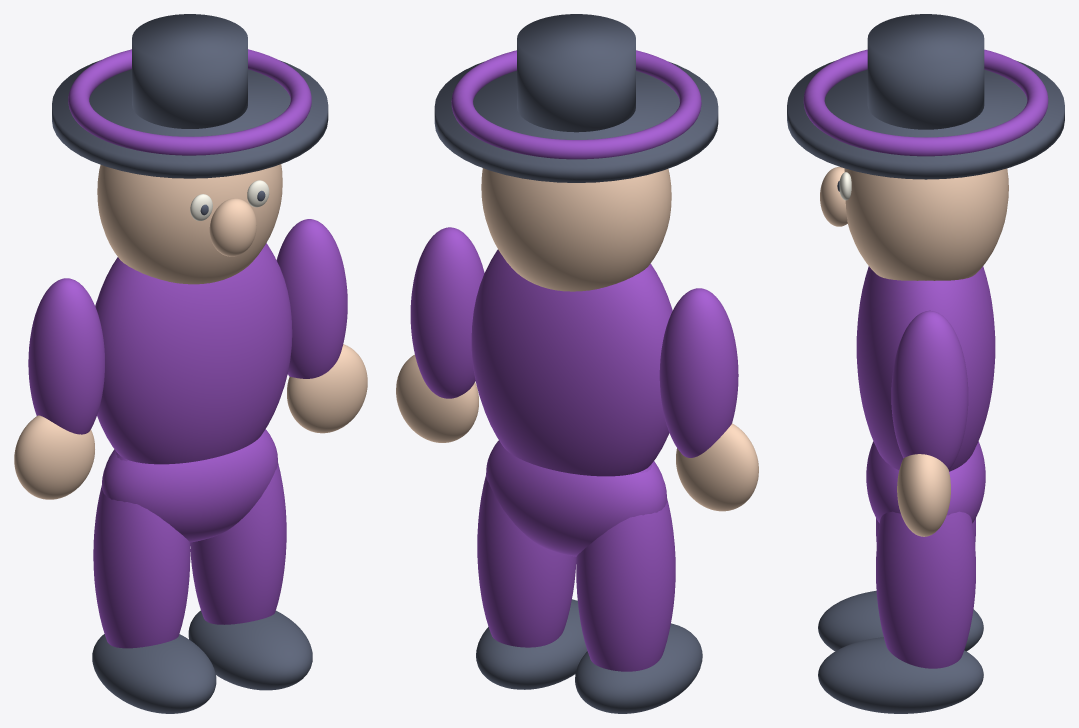
Rendered from Crimnon_Tophatter.glb.
3 renders of one model, left to right at view 1: azimuth 30°, elevation 25°; view 2: azimuth 150°, elevation 25°; view 3: azimuth 270°, elevation 25°, orthographic. The views are drawn at different scales.
Visible parts, largest first — view 1: Torso, Head, Tophat_Brim, Leg_-1, Tophat_Crown, Pelvis, ArmUpper_-1, Leg_1, ArmUpper_1, Hat_Band, Shoe_-1, Shoe_1 (+3 smaller); view 2: Torso, Head, Tophat_Brim, Leg_-1, Tophat_Crown, Pelvis, ArmUpper_-1, Leg_1, ArmUpper_1, Hat_Band, Shoe_-1, Shoe_1 (+2 smaller); view 3: Head, Torso, Tophat_Brim, Leg_1, Tophat_Crown, ArmUpper_1, Shoe_1, Hat_Band, Pelvis, Hand_1, Shoe_-1, Nose.
Part boxes in pixels (left/top/right/bottom): Torso: left=95, top=243, right=292, bottom=464; Head: left=97, top=164, right=282, bottom=284; Tophat_Brim: left=52, top=60, right=328, bottom=178; Leg_-1: left=93, top=452, right=190, bottom=648; Tophat_Crown: left=132, top=14, right=247, bottom=128; Pelvis: left=102, top=429, right=278, bottom=542; ArmUpper_-1: left=28, top=278, right=104, bottom=434; Leg_1: left=190, top=464, right=286, bottom=624; ArmUpper_1: left=276, top=219, right=347, bottom=378; Hat_Band: left=68, top=49, right=311, bottom=155; Shoe_-1: left=92, top=634, right=216, bottom=713; Shoe_1: left=188, top=610, right=312, bottom=690; Torso: left=471, top=249, right=672, bottom=476; Head: left=481, top=168, right=671, bottom=291; Tophat_Brim: left=434, top=61, right=718, bottom=182; Leg_-1: left=576, top=464, right=675, bottom=671; Tophat_Crown: left=517, top=14, right=635, bottom=132; Pelvis: left=486, top=440, right=666, bottom=556; ArmUpper_-1: left=659, top=288, right=738, bottom=457; Leg_1: left=477, top=476, right=576, bottom=647; ArmUpper_1: left=410, top=227, right=484, bottom=398; Hat_Band: left=451, top=50, right=701, bottom=159; Shoe_-1: left=575, top=623, right=702, bottom=713; Shoe_1: left=476, top=599, right=587, bottom=689; Head: left=844, top=168, right=1008, bottom=280; Torso: left=856, top=266, right=995, bottom=471; Tophat_Brim: left=787, top=61, right=1064, bottom=179; Leg_1: left=876, top=511, right=975, bottom=668; Tophat_Crown: left=867, top=14, right=984, bottom=129; ArmUpper_1: left=891, top=310, right=968, bottom=469; Shoe_1: left=818, top=637, right=983, bottom=713; Hat_Band: left=803, top=49, right=1048, bottom=156; Pelvis: left=866, top=441, right=985, bottom=523; Hand_1: left=897, top=454, right=950, bottom=536; Shoe_-1: left=818, top=590, right=983, bottom=651; Nose: left=820, top=167, right=847, bottom=226.
Size of the model in its own units: 2.1 by 3.68 by 1.44.
